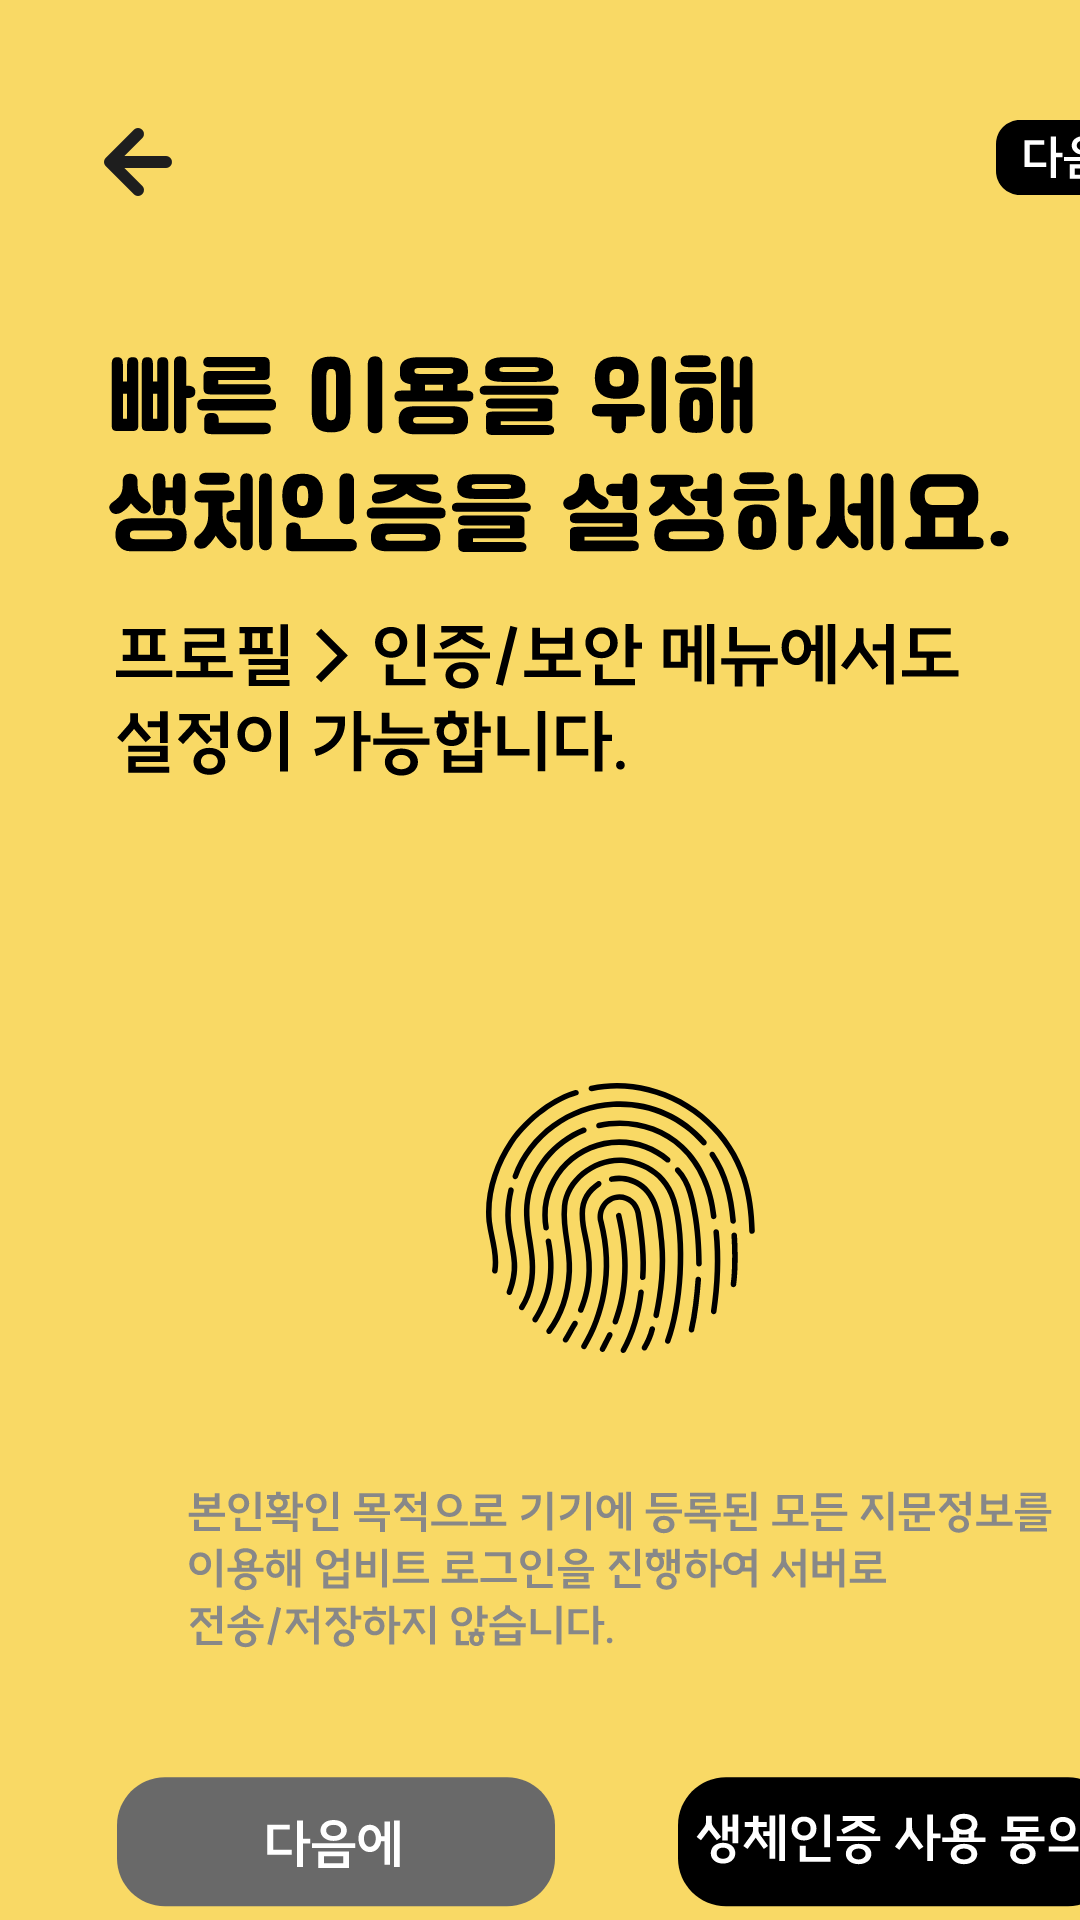

Named icons in this screenshot (1080 × 1920) and their centers, point (x, y):
arrow left: point (138, 162)
fingerprint: point (620, 1218)
